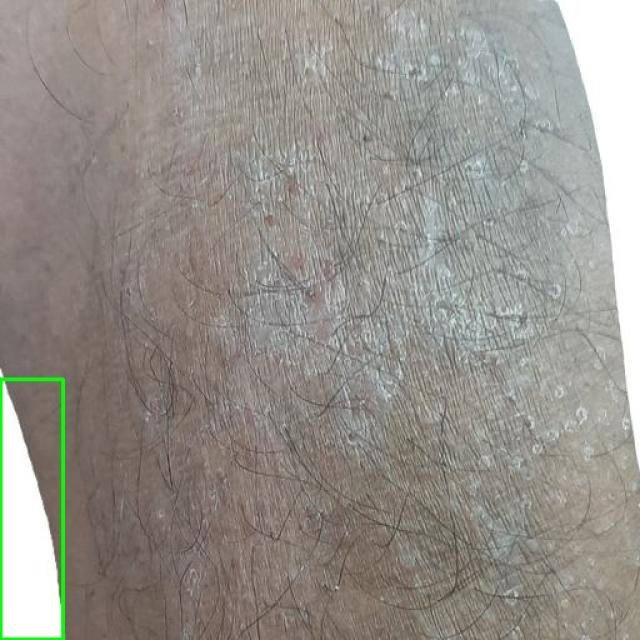Contact Dermatitis: (0, 379, 62, 639)
